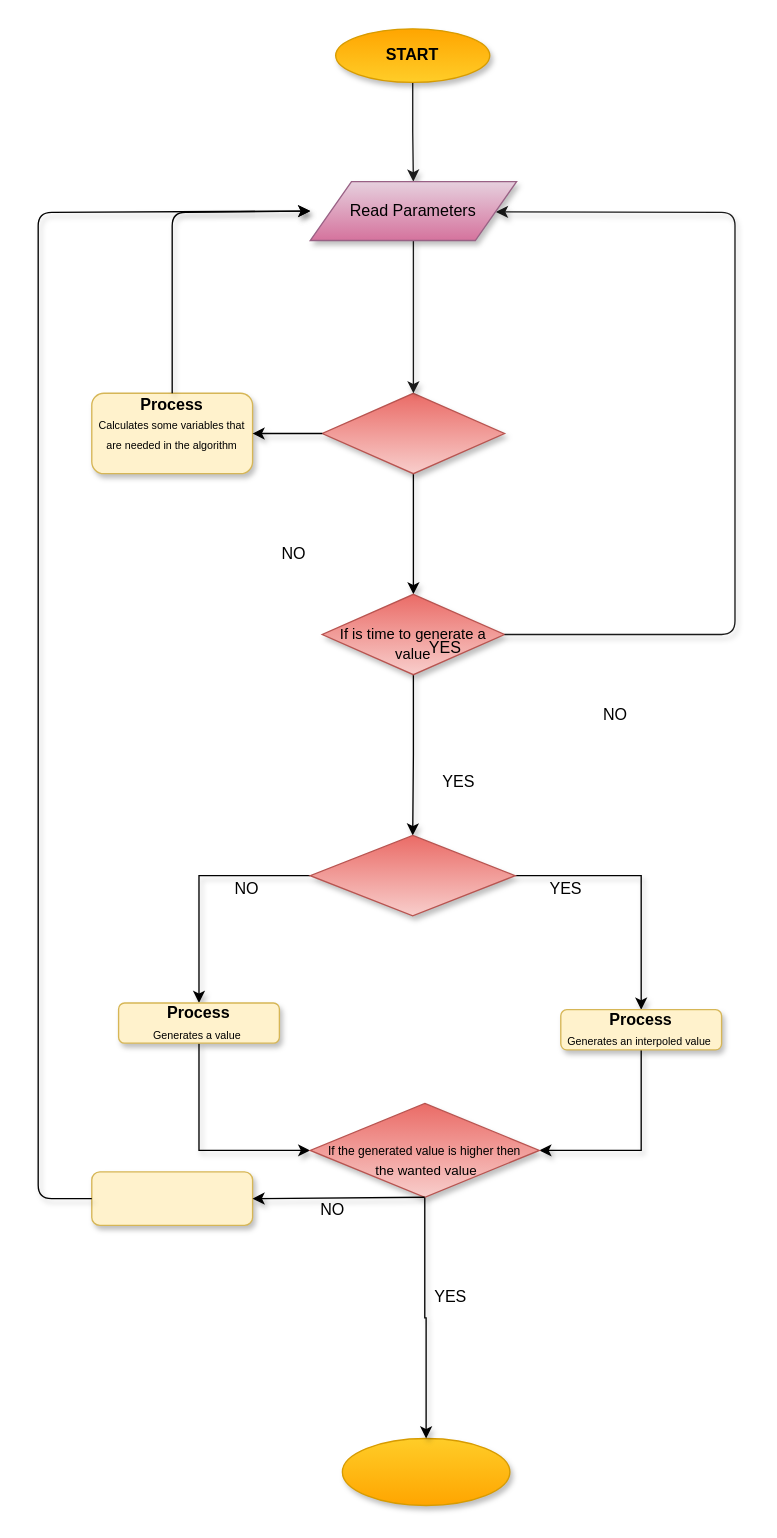
The diagram is 777 pixels wide and 1538 high, and some of its shapes have lost their labels. The centre of each missing label's shape, as x and y in pixels:
"If is ready to generate a value" goes at pixel 414 435.
"If it needs to generate a n interpolated value" goes at pixel 413 877.
"Process Return the generated value" goes at pixel 173 1200.
"STOP" goes at pixel 427 1473.
